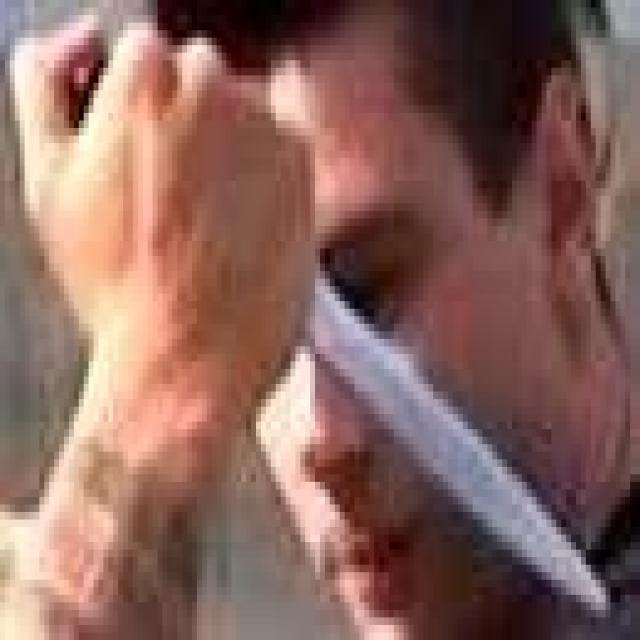knife: (262, 228, 623, 623)
